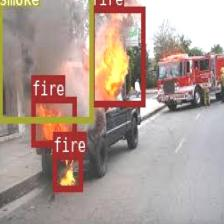fire: (89, 5, 144, 106), (30, 96, 76, 146), (52, 152, 82, 191)
smoke: (0, 0, 93, 122)
